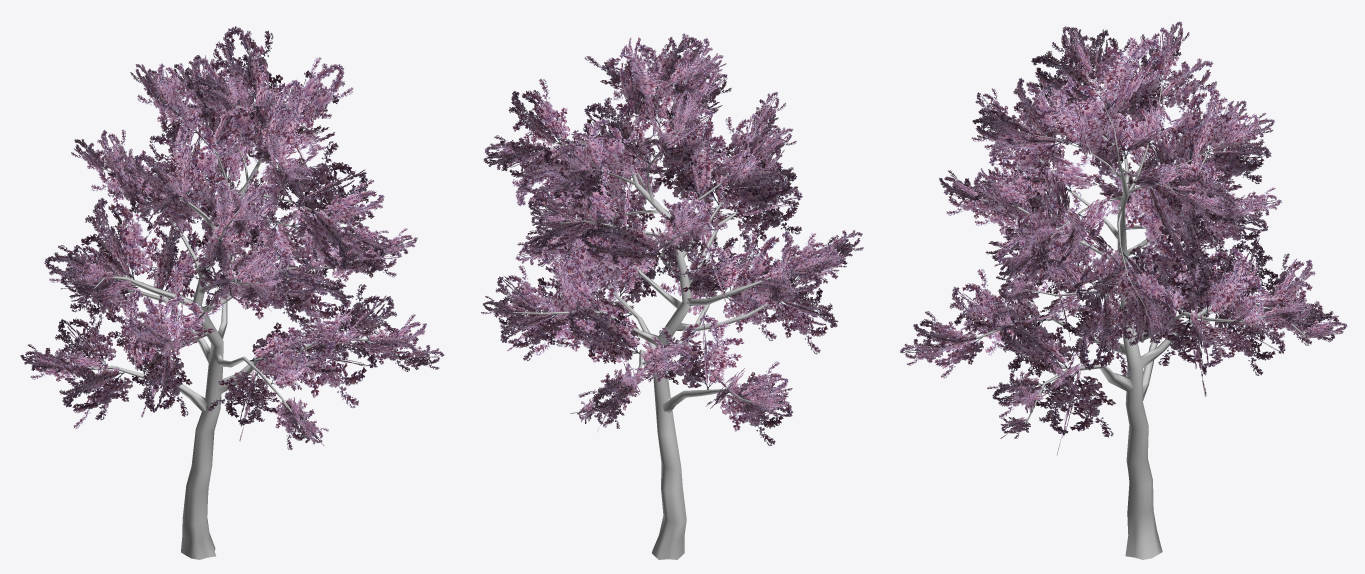
Rendered from TreeWaxCherry-red1.fbx.
3 views of the same model, side by side, from view 1: azimuth 30°, elevation 25°; view 2: azimuth 150°, elevation 25°; view 3: azimuth 270°, elevation 25° (orthographic). The views are drawn at different scales.
Visible parts, largest first — view 1: TreeWaxCherry-red1_LOD0; view 2: TreeWaxCherry-red1_LOD0; view 3: TreeWaxCherry-red1_LOD0.
Part boxes in pixels (bbox=[...]): TreeWaxCherry-red1_LOD0: bbox=[20, 26, 444, 559]; TreeWaxCherry-red1_LOD0: bbox=[481, 33, 863, 559]; TreeWaxCherry-red1_LOD0: bbox=[900, 21, 1347, 559].
Size of what is drawn, in the model's own units: 377 by 554 by 407.
